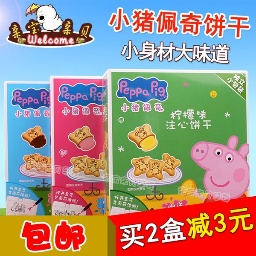Peppa: (192, 137, 253, 202)
